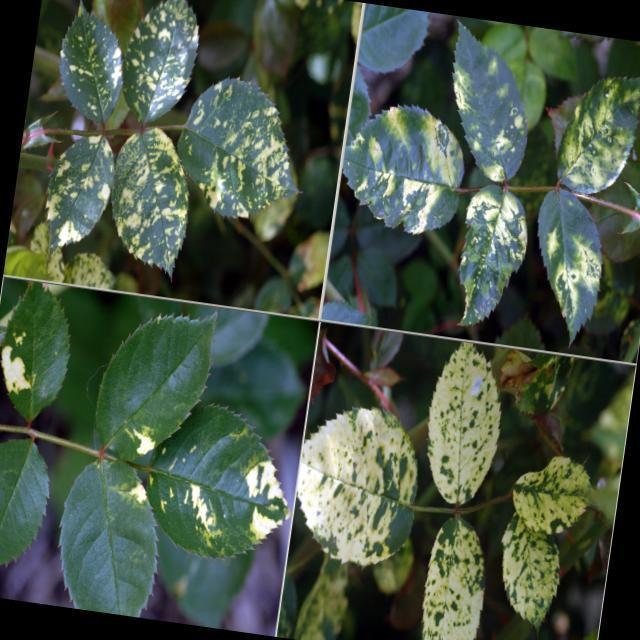Mosaic Virus: (83, 290, 223, 470), (146, 409, 302, 561), (290, 400, 423, 570), (177, 67, 310, 210), (51, 458, 170, 616), (335, 102, 467, 236), (442, 27, 548, 177), (420, 344, 510, 511), (104, 132, 194, 268), (0, 276, 78, 431), (452, 186, 534, 330), (532, 188, 612, 332), (557, 69, 640, 194), (121, 0, 206, 122), (51, 0, 130, 129), (492, 506, 565, 640), (40, 125, 115, 247), (415, 520, 488, 640), (514, 449, 594, 532)
